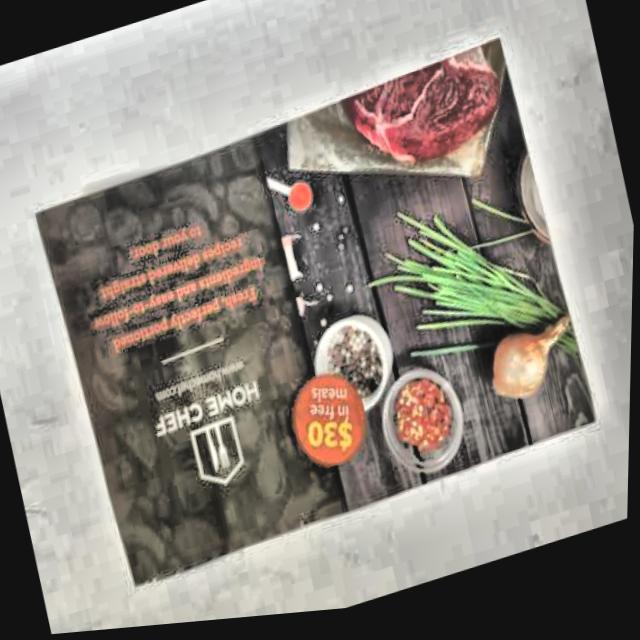Paper: (18, 23, 625, 605)
